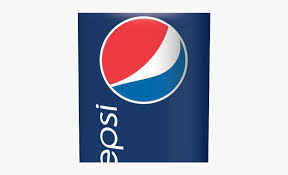pepsi: (77, 13, 207, 160)
